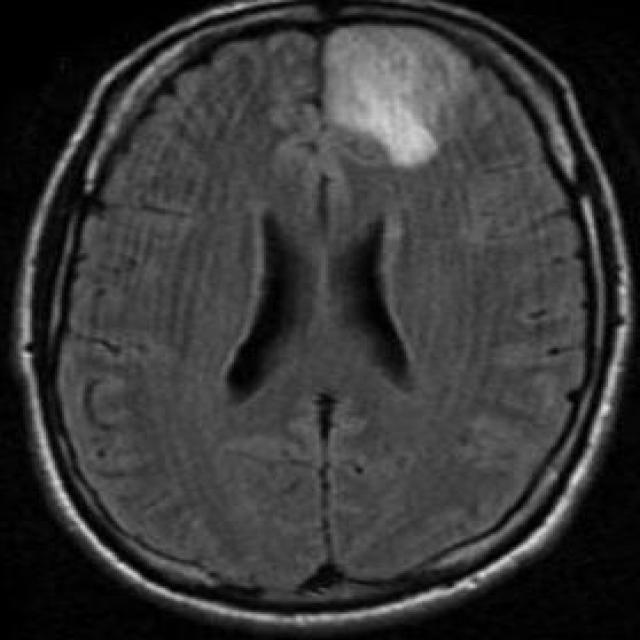Tumor-Cell: (313, 0, 496, 164)
